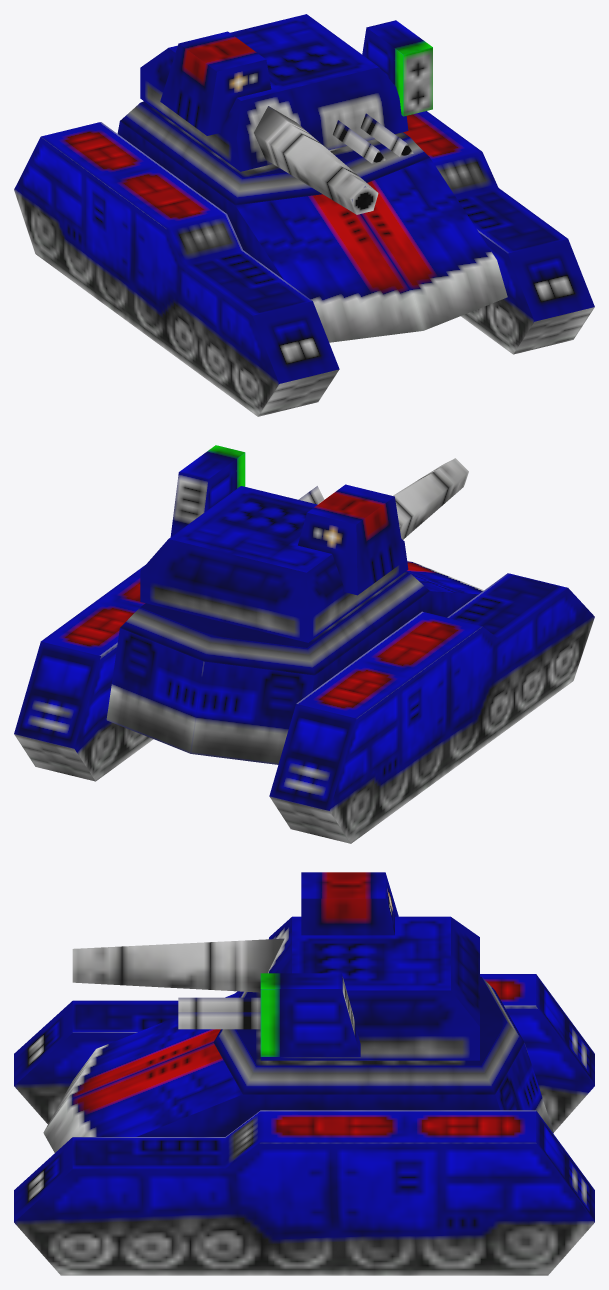
Rendered from legion.glb.
The picture shows the model from 3 angles, top to bottom: view 1: azimuth 30°, elevation 25°; view 2: azimuth 150°, elevation 25°; view 3: azimuth 270°, elevation 25°; orthographic projection. The views are drawn at different scales.
Parts seen in each view (by area): view 1: legion, Legion_turret; view 2: legion, Legion_turret; view 3: legion, Legion_turret.
Part boxes in pixels (x1=…): legion: x1=14, y1=101, x2=594, y2=416; Legion_turret: x1=140, y1=14, x2=432, y2=214; legion: x1=14, y1=561, x2=594, y2=843; Legion_turret: x1=140, y1=445, x2=468, y2=642; legion: x1=14, y1=974, x2=594, y2=1275; Legion_turret: x1=72, y1=872, x2=479, y2=1060.
Bounding box in the file's own units: 8.79 × 6.6 × 12.8.
1 material, 1 textured.
